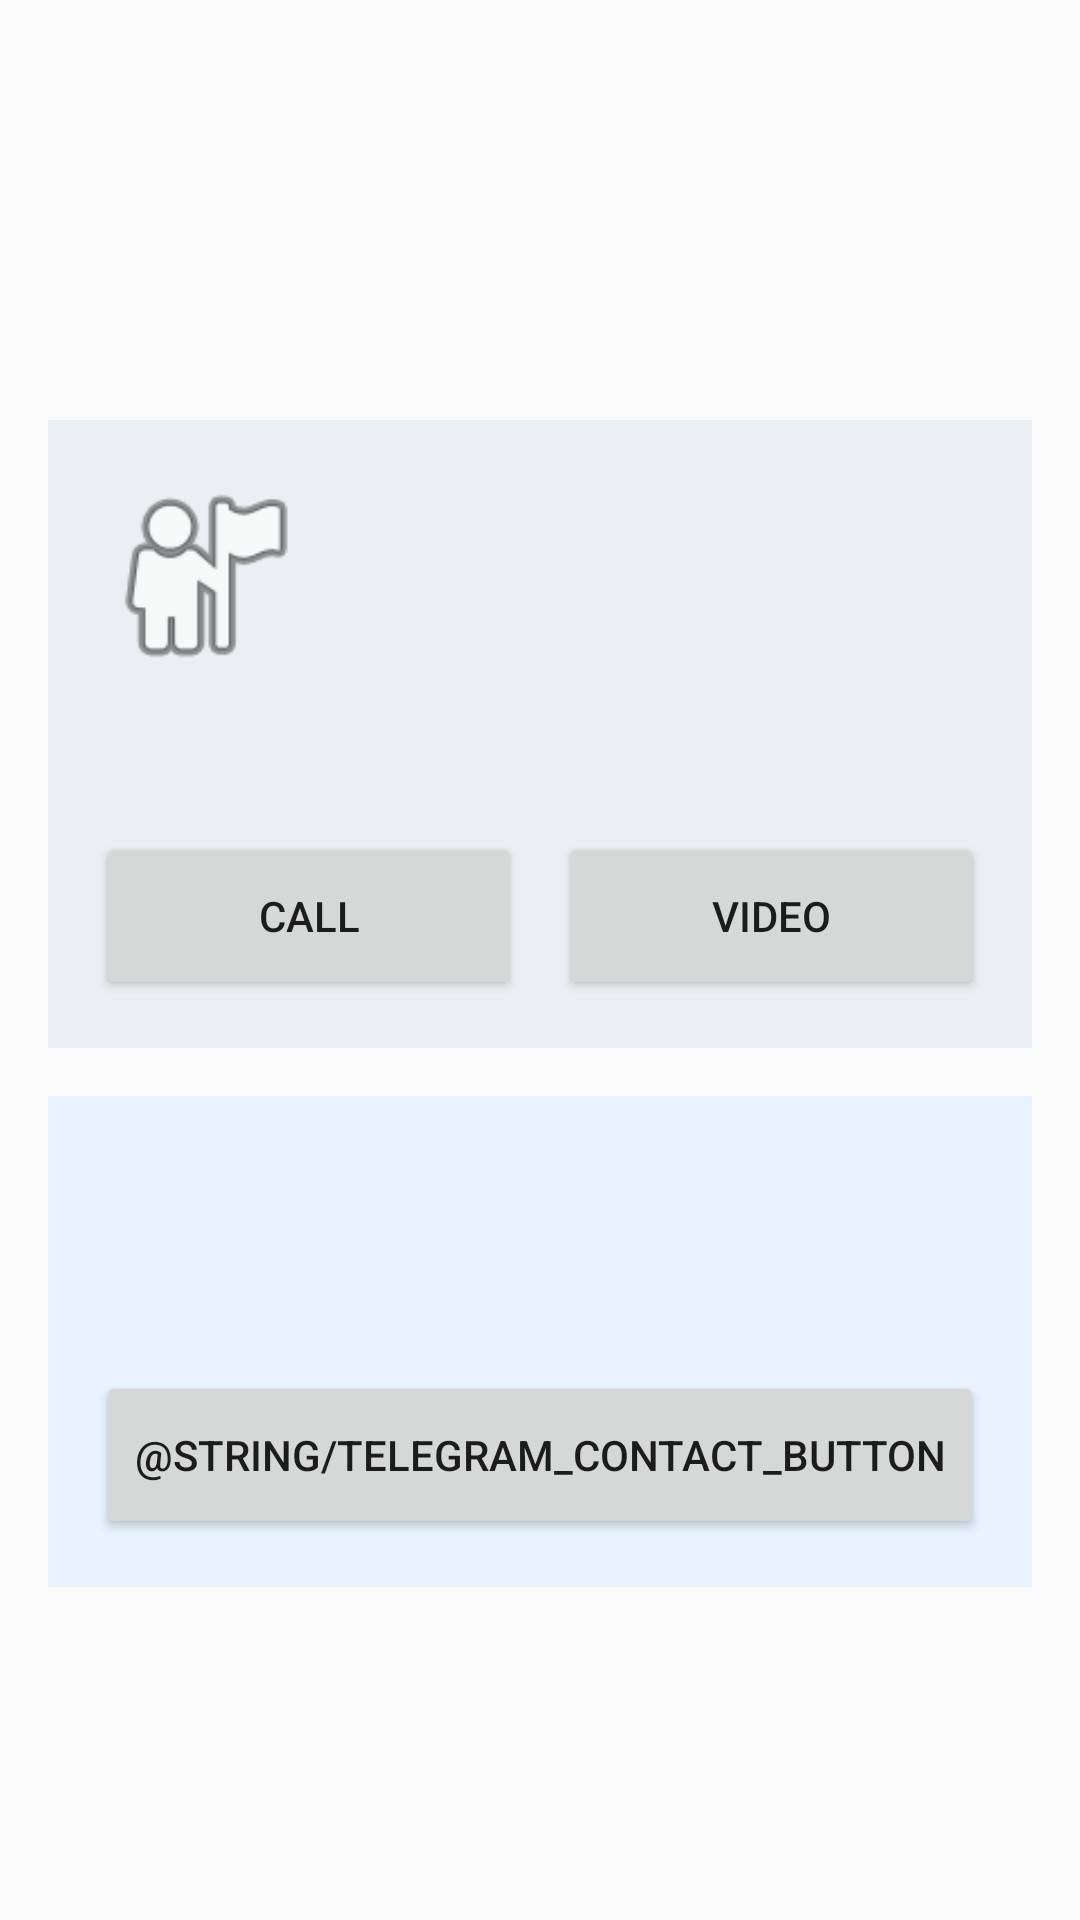

Named icons in this screenshot (1080*1920) and their bounding boxes, [x1, y1, x2, y2]:
Contact photo: [125, 495, 288, 657]
